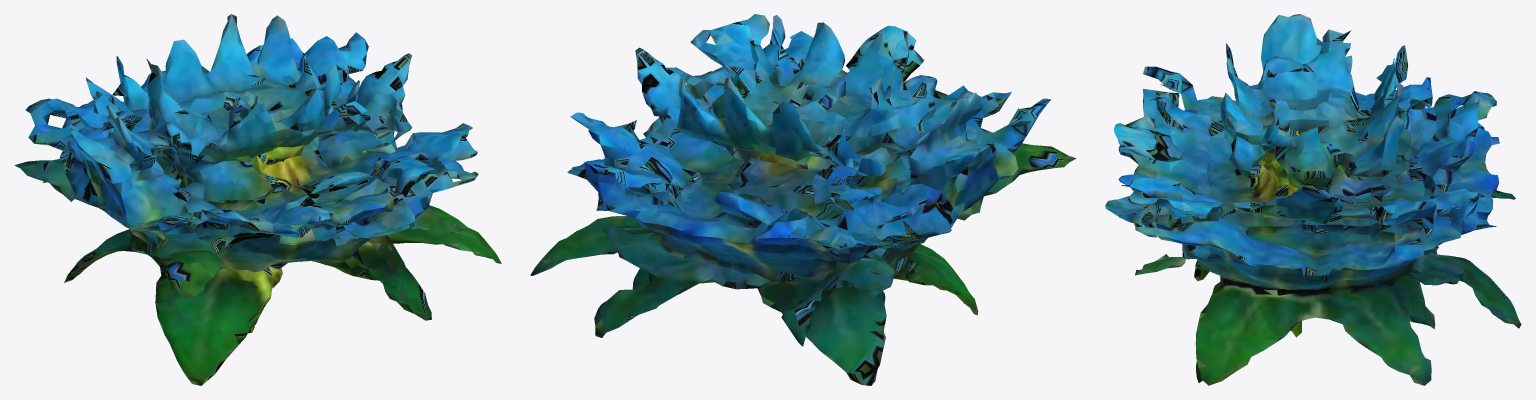
3 views of the same model, side by side, from view 1: azimuth 30°, elevation 25°; view 2: azimuth 150°, elevation 25°; view 3: azimuth 270°, elevation 25° (orthographic). The views are drawn at different scales.
Visible parts, largest first — view 1: 756d5f5b; view 2: 756d5f5b; view 3: 756d5f5b.
Boxes of the visible parts, x1,y1,x2,y2 form: 756d5f5b: (14,14,501,385); 756d5f5b: (530,14,1076,385); 756d5f5b: (1105,14,1521,385).
Size of the model in its own units: 0.1605 by 0.1133 by 0.1578.
Materials: 1 (1 with a texture image).
